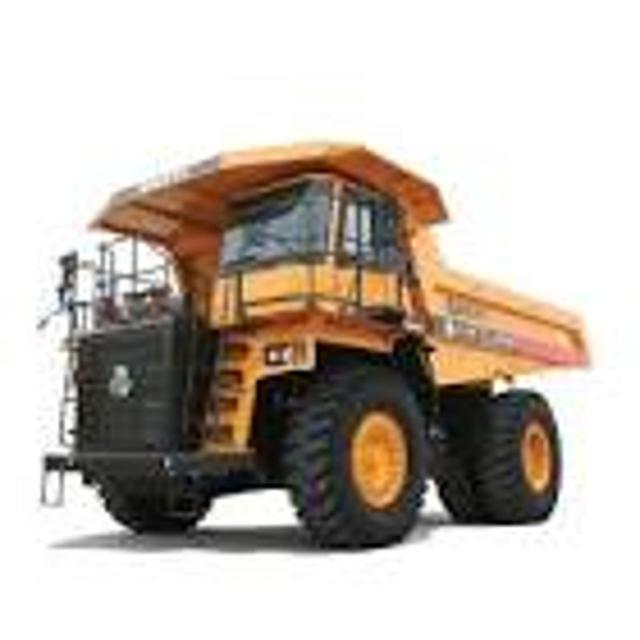dump_truck: (27, 133, 590, 548)
